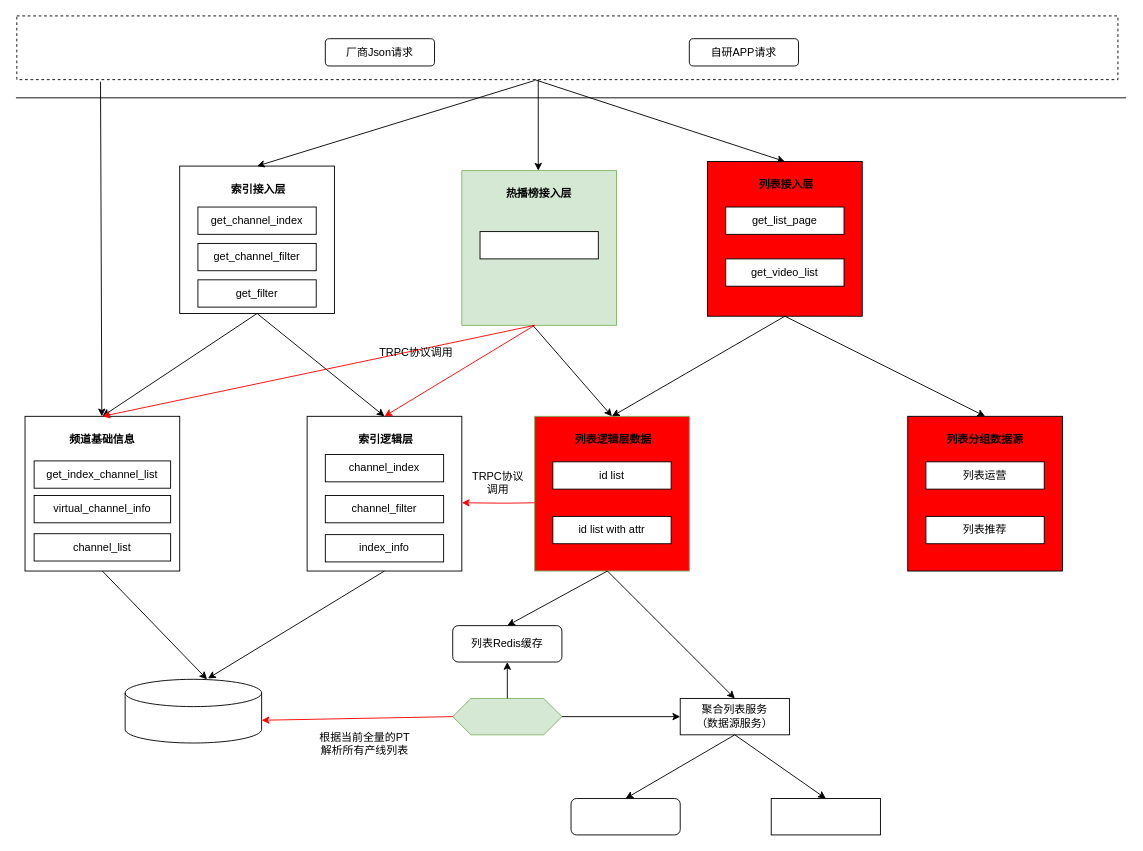
Image size: 1143x851. Some labels were removed from this diagram. The centre of each missing label's shape, as x and y in pixels:
"CMS DB" goes at (x=193, y=710).
"get_ranking_list" goes at (x=538, y=245).
"列表干预逻辑" goes at (x=507, y=716).
"平台列表逻辑层" goes at (x=825, y=816).
"自定义列表Redis" goes at (x=625, y=816).
